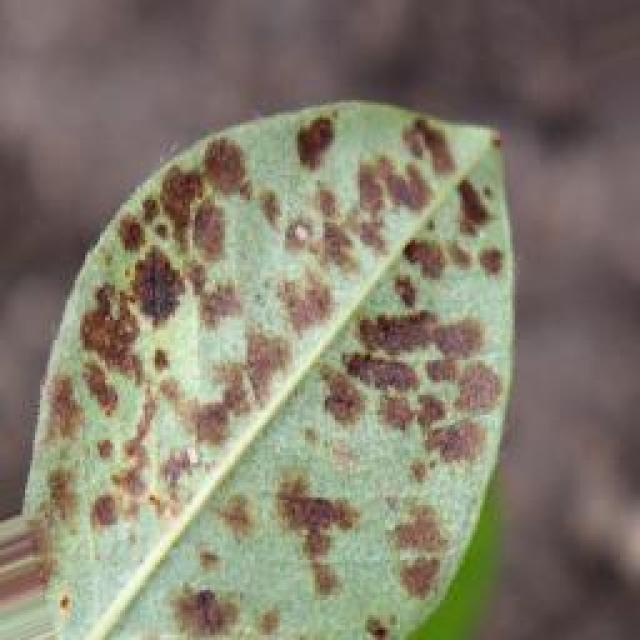Whitefly: (32, 92, 508, 640)
